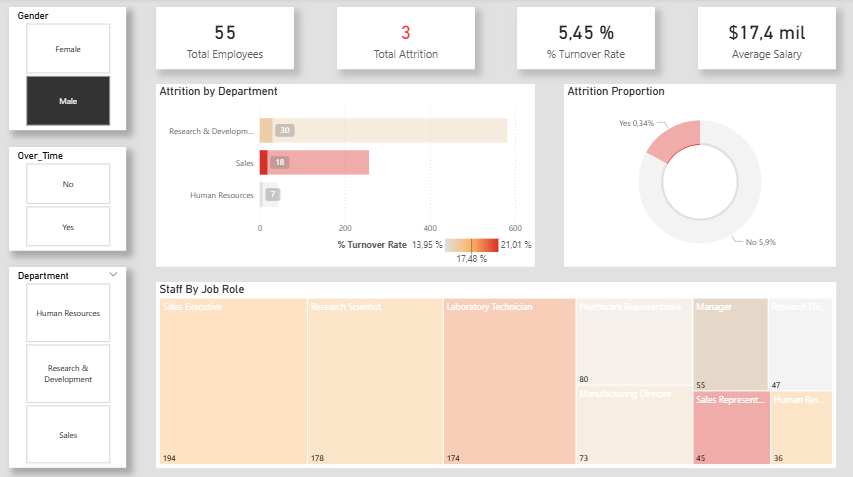

Layout of this report page (visuals, bound fields, positions):
{"tool":"powerbi","page":{"name":"Talent summary","canvas":[1280,720],"ordinal":0},"visuals":[{"type":"slicer","fields":{"Values":["Dim_JobDetails.Department"]},"box":[14.9,401.8,174.8,300.2],"z":0},{"type":"card","title":"Total Empoyees","fields":{"Values":["_Measures.Total Employees"]},"box":[234.5,13.4,205.8,92.6],"z":1000,"group":"g1"},{"type":"clusteredBarChart","title":"Attrition by Department","fields":{"Category":["Dim_JobDetails.Department"],"Y":["_Measures.Total Employees"]},"box":[233.8,128.5,566.1,273.4],"z":1000},{"type":"card","fields":{"Values":["_Measures.Total Attrition"]},"box":[504.5,13.4,205.8,92.6],"z":2000,"group":"g1"},{"type":"treemap","title":"Staff By Job Role","fields":{"Group":["Dim_JobDetails.Job_Role"],"Values":["_Measures.Total Employees"]},"box":[234.5,424.2,1015.8,277.8],"z":2000},{"type":"card","fields":{"Values":["_Measures.% Turnover Rate"]},"box":[774.5,13.4,205.8,92.6],"z":3000,"group":"g1"},{"type":"donutChart","title":"Attrition Proportion","fields":{"Category":["Fact_Attrition.Attrition"],"Y":["_Measures.Total Employees"]},"box":[844,128.5,406.3,273.4],"z":3000},{"type":"slicer","fields":{"Values":["Dim_Employee.Gender"]},"box":[14.9,13.4,174.8,183.7],"z":4000},{"type":"card","fields":{"Values":["_Measures.Average Salary"]},"box":[1044.5,13.4,205.8,92.6],"z":4000,"group":"g1"},{"type":"slicer","fields":{"Values":["Dim_Satisfaction.Over_Time"]},"box":[14.9,221.8,174.8,155.4],"z":5000},{"type":"group","id":"g1","title":"Grupo 1","box":[234.5,13.4,1015.8,92.6],"z":6000}]}

Visuals, with their boxes in screenshot pixels (x1, y1, x2, y2), scaled from the page's 1280x720 canvas onto the 853x477 screenshot:
slicer - Dim_JobDetails.Department: region(10, 266, 126, 465)
"Total Empoyees" card: region(156, 9, 293, 70)
"Attrition by Department" clusteredBarChart: region(156, 85, 533, 266)
card - _Measures.Total Attrition: region(336, 9, 473, 70)
"Staff By Job Role" treemap: region(156, 281, 833, 465)
card - _Measures.% Turnover Rate: region(516, 9, 653, 70)
"Attrition Proportion" donutChart: region(562, 85, 833, 266)
slicer - Dim_Employee.Gender: region(10, 9, 126, 131)
card - _Measures.Average Salary: region(696, 9, 833, 70)
slicer - Dim_Satisfaction.Over_Time: region(10, 147, 126, 250)
"Grupo 1" group: region(156, 9, 833, 70)
